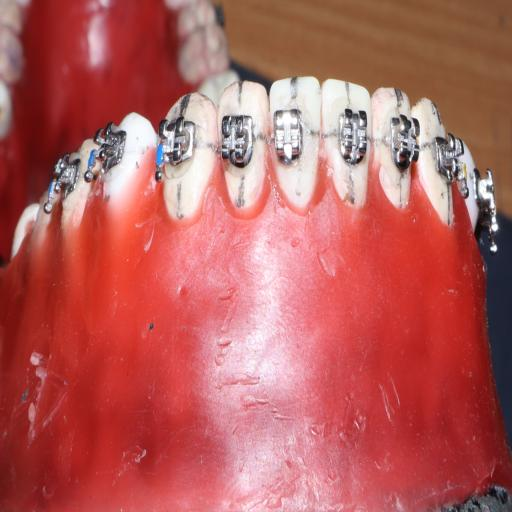incorrect_brace: (269, 108, 304, 169)
